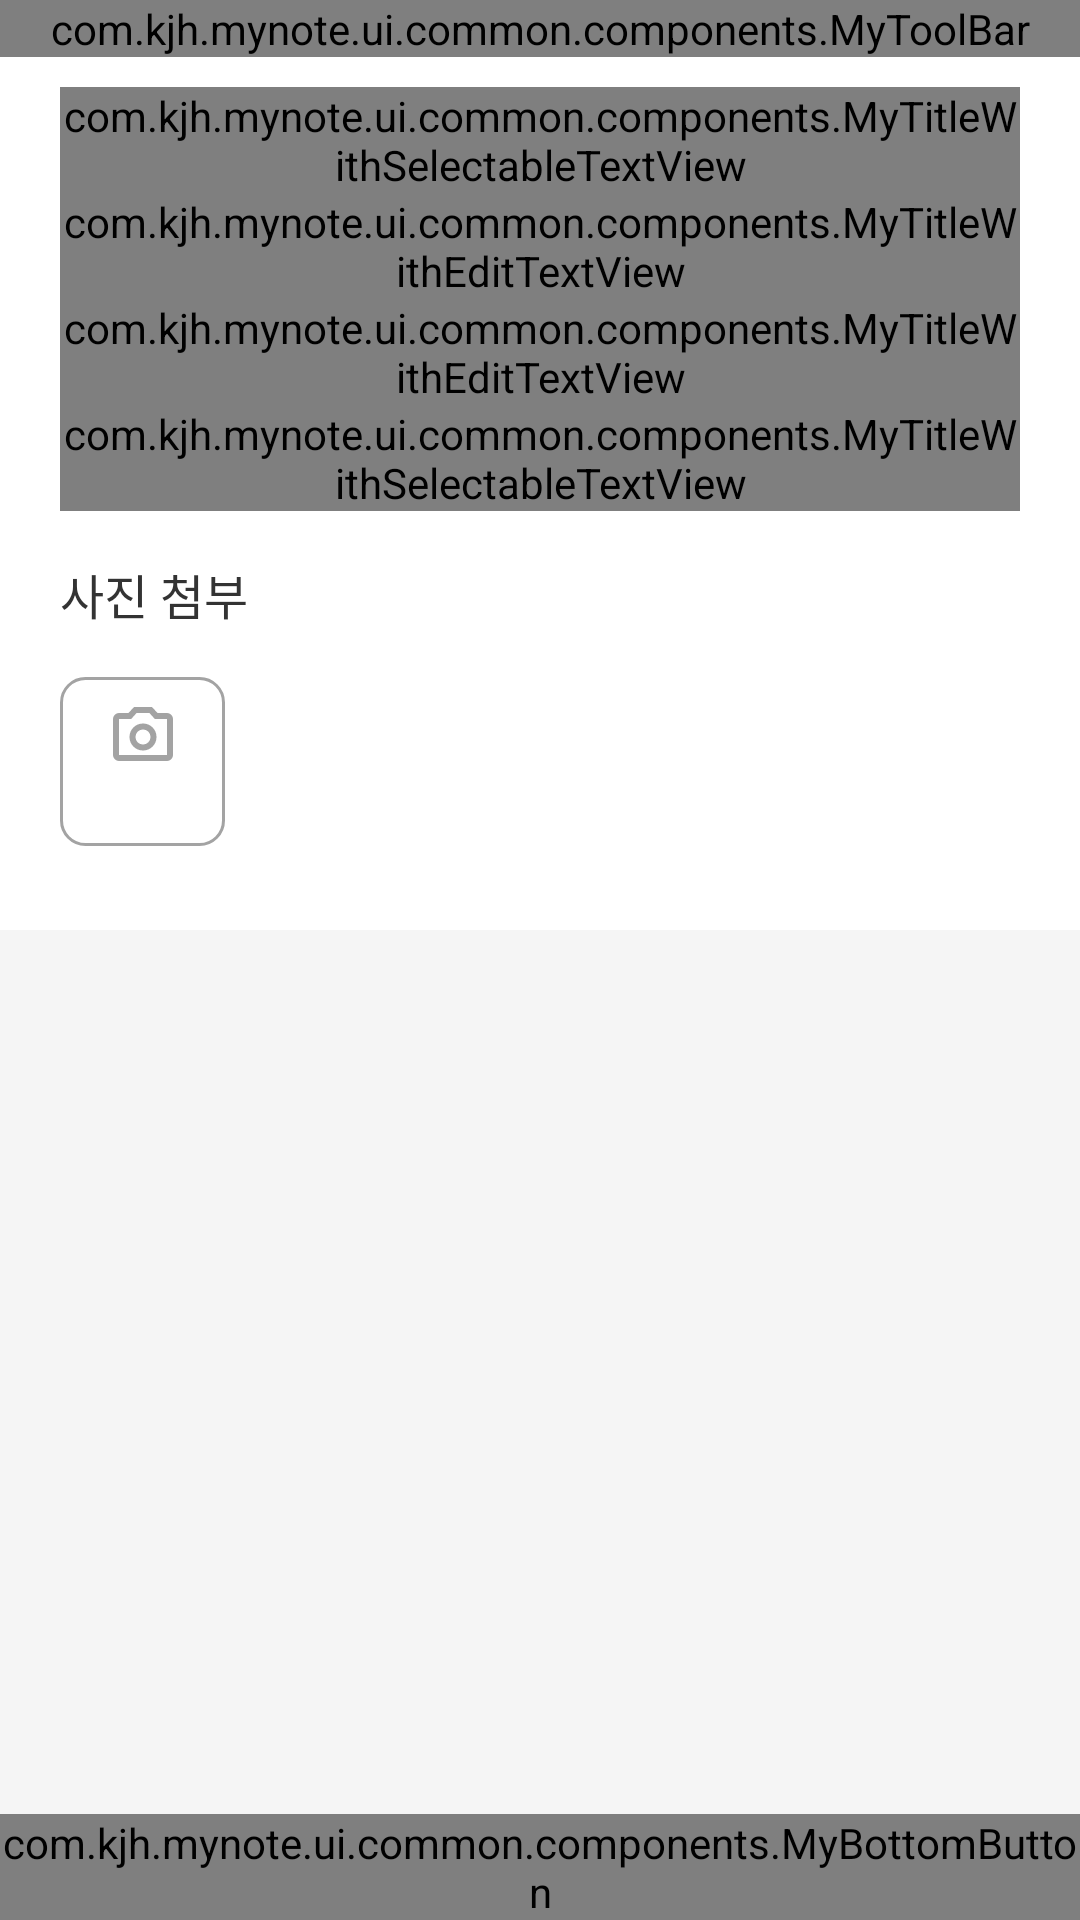

Named icons in this screenshot (1080px×1920px) and their centers, [x,y]:
camera: [143,734]
